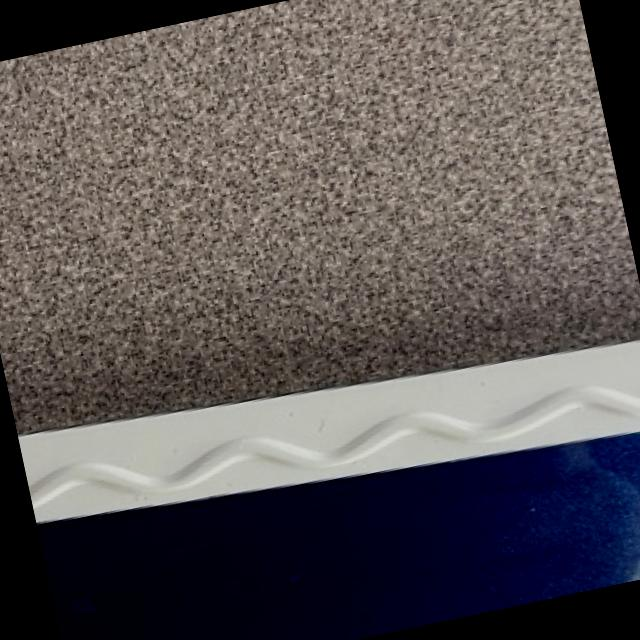healthy: (17, 339, 640, 522), (341, 500, 640, 630)
